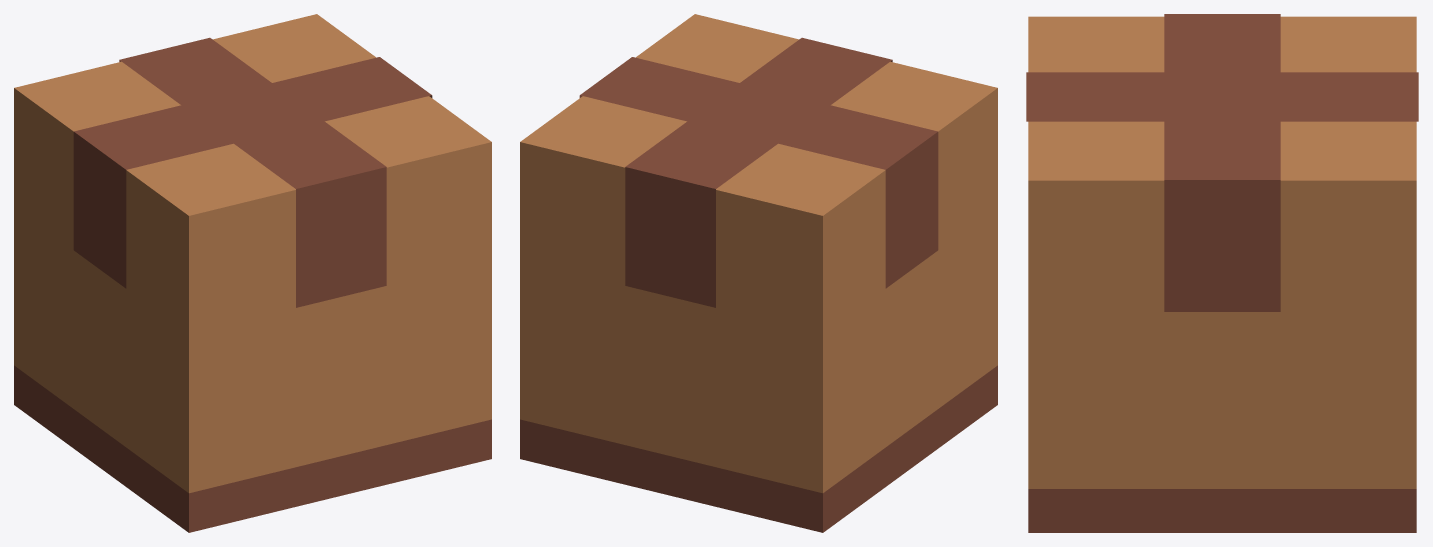
File: G01_015_BoxC.fbx
3 renders of one model, left to right at view 1: azimuth 30°, elevation 25°; view 2: azimuth 150°, elevation 25°; view 3: azimuth 270°, elevation 25°, orthographic. The views are drawn at different scales.
Parts seen in each view (by area): view 1: 007_Box_Big, 平面.034, 立方体.066; view 2: 007_Box_Big, 平面.034, 立方体.066; view 3: 007_Box_Big, 平面.034, 立方体.066.
Part boxes in pixels (x1=…): 007_Box_Big: x1=14, y1=14, x2=491, y2=493; 平面.034: x1=73, y1=37, x2=432, y2=307; 立方体.066: x1=14, y1=365, x2=491, y2=532; 007_Box_Big: x1=520, y1=14, x2=997, y2=493; 平面.034: x1=579, y1=37, x2=938, y2=307; 立方体.066: x1=520, y1=365, x2=997, y2=532; 007_Box_Big: x1=1028, y1=16, x2=1416, y2=488; 平面.034: x1=1026, y1=14, x2=1418, y2=311; 立方体.066: x1=1028, y1=489, x2=1416, y2=532.
Bounding box in the file's own units: 202 × 201 × 202.
